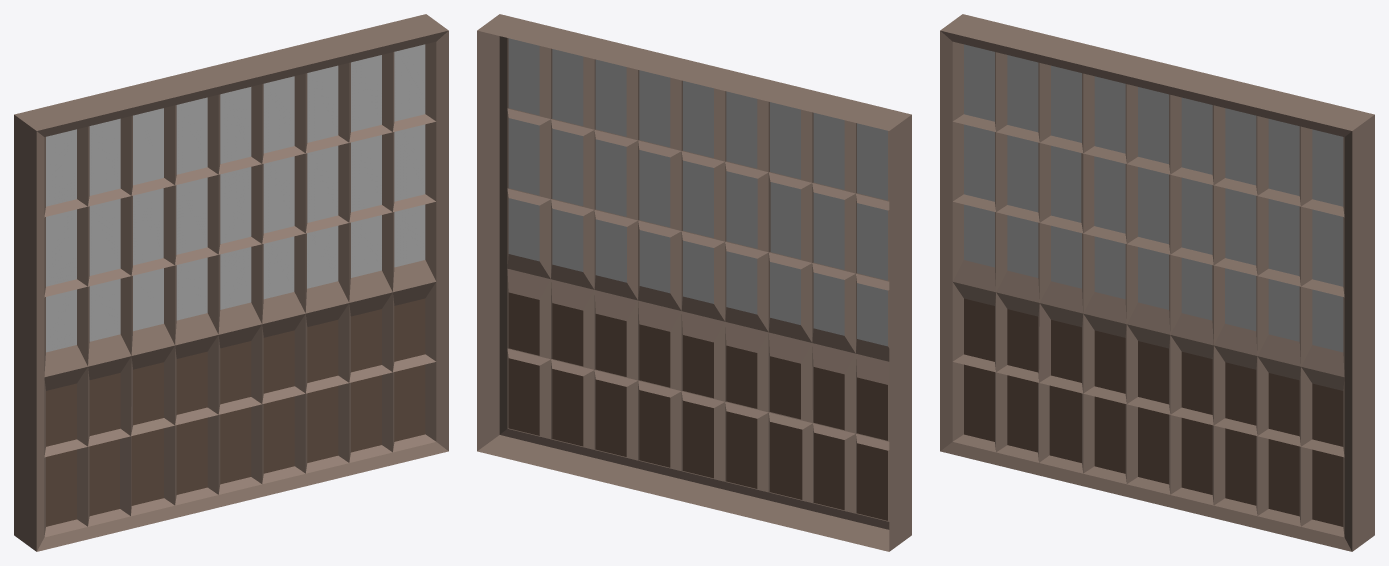
The model's file is wall_default_bottem_single.fbx.
The picture shows the model from 3 angles, left to right: view 1: azimuth 30°, elevation 25°; view 2: azimuth 150°, elevation 25°; view 3: azimuth 330°, elevation 25°; orthographic projection.
Visible parts, largest first — view 1: Wall_2_single20; view 2: Wall_2_single20; view 3: Wall_2_single20.
Part boxes in pixels (x1,y1,x2,y2): Wall_2_single20: [14, 14, 448, 551]; Wall_2_single20: [477, 14, 911, 551]; Wall_2_single20: [940, 14, 1374, 551].
Bounding box in the file's own units: 7.4 × 7.22 × 0.7031.
